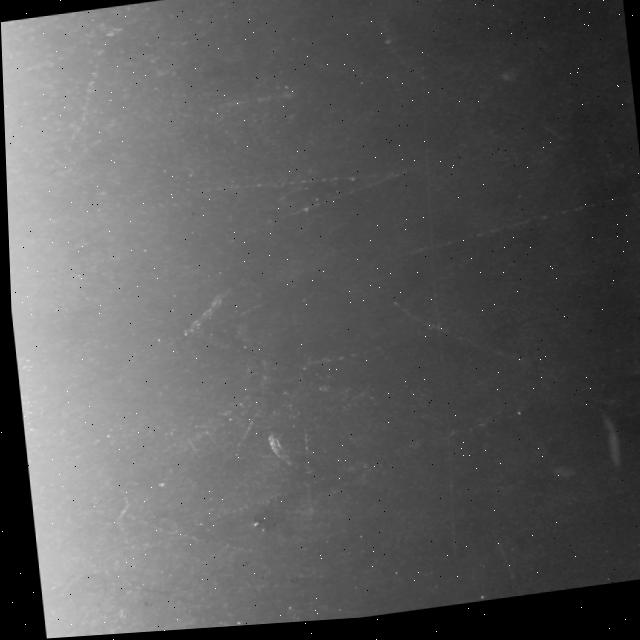beta: (105, 411, 538, 565), (113, 490, 305, 588), (381, 196, 640, 266), (387, 289, 532, 390), (239, 172, 412, 235), (176, 164, 394, 209), (299, 315, 467, 370), (50, 45, 113, 159), (210, 74, 296, 116), (480, 538, 512, 601), (224, 414, 259, 452), (102, 491, 124, 527)
